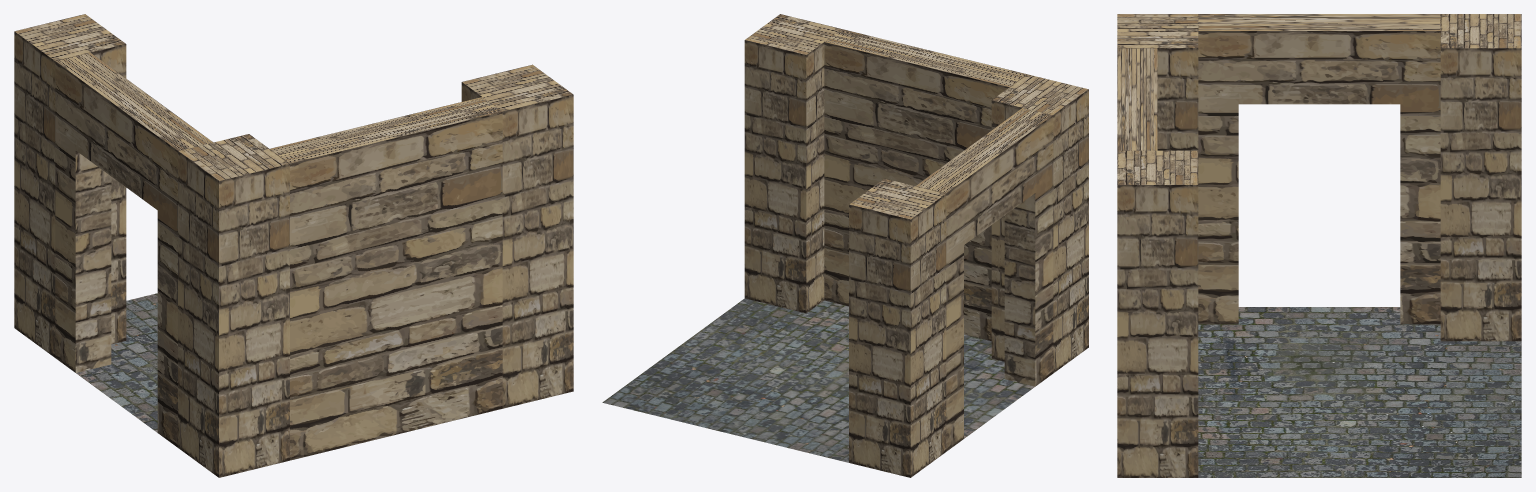
The model's file is 1-NEW-southWallWestDoor.fbx.
The picture shows the model from 3 angles, left to right: view 1: azimuth 30°, elevation 25°; view 2: azimuth 150°, elevation 25°; view 3: azimuth 270°, elevation 25°; orthographic projection. The views are drawn at different scales.
Visible parts, largest first — view 1: Cube_1, Plane; view 2: Cube_1, Plane; view 3: Cube_1, Plane.
Part boxes in pixels (bbox=[...]): Cube_1: bbox=[14, 14, 573, 477]; Plane: bbox=[76, 293, 157, 432]; Cube_1: bbox=[744, 14, 1088, 477]; Plane: bbox=[602, 298, 1034, 462]; Cube_1: bbox=[1117, 14, 1521, 477]; Plane: bbox=[1198, 307, 1521, 477].
Bounding box in the file's own units: 10 × 8 × 10.
Materials: 2 (2 with a texture image).
